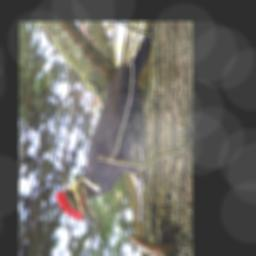Woodpecker: (53, 22, 155, 231)
